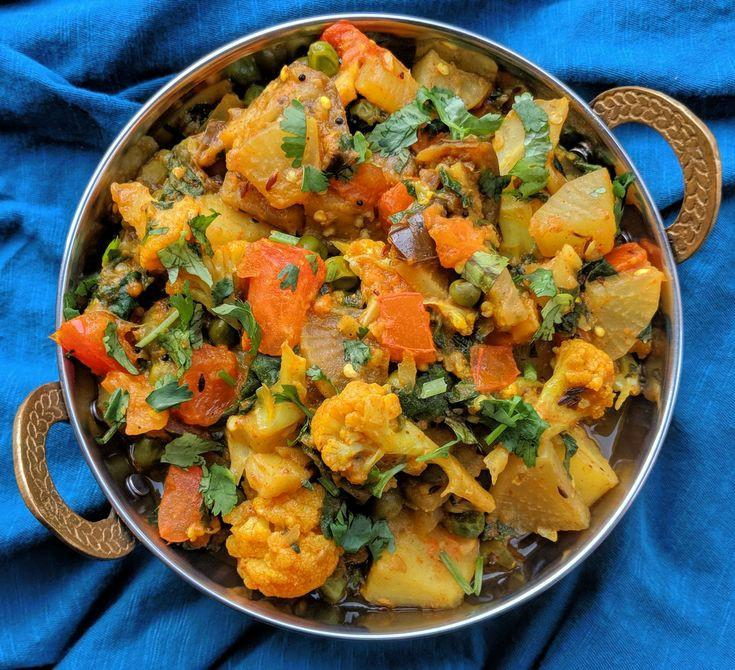AlooGobi: (52, 16, 665, 609)
